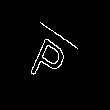P_NE: (33, 24, 77, 86)
